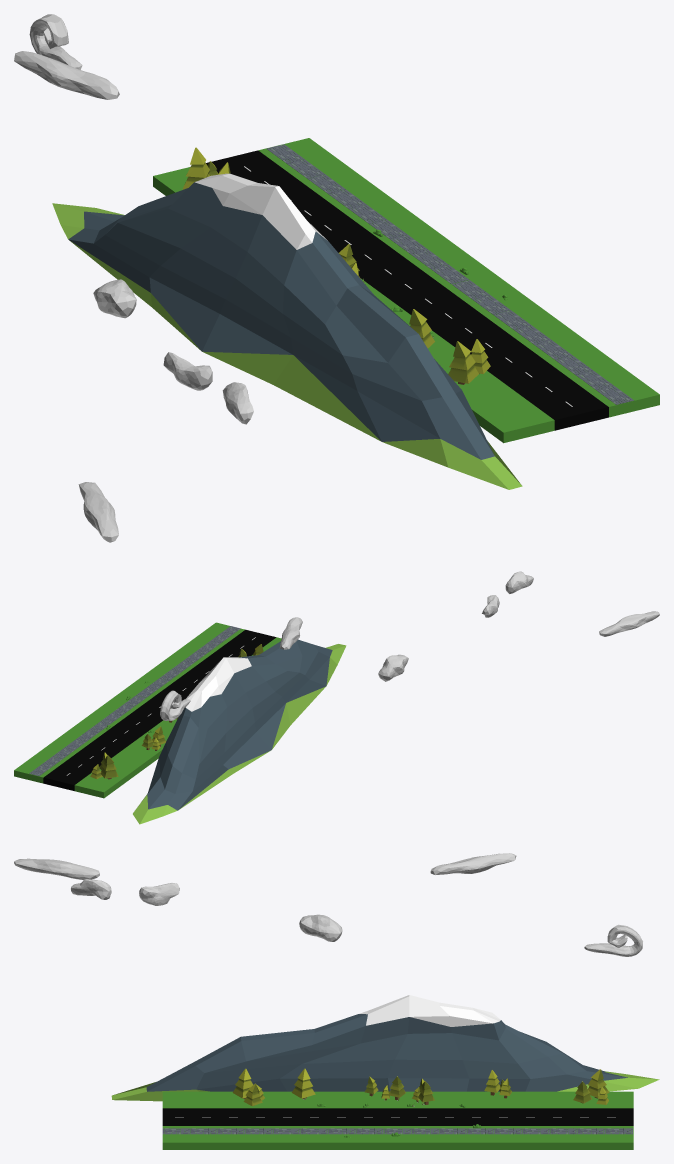
File: CountrySideRoadSeamless.glb
3 views of the same model, one above another, from view 1: azimuth 30°, elevation 25°; view 2: azimuth 150°, elevation 25°; view 3: azimuth 270°, elevation 25° (orthographic). The views are drawn at different scales.
Visible parts, largest first — view 1: Mountain_Cube, Cube, Cloud4.001, Cloud5.001, Cloud4, Cloud1, Cloud2.001, Cloud2, pine_tree.027; view 2: Mountain_Cube, Cube, Cloud4, Cloud5.001, Cloud1, Cloud4.001, Cloud2; view 3: Mountain_Cube, Cube, Cloud4, Cloud5.001, Cloud4.001, Cloud1, Cloud2.001, Cloud2.
Boxes of the visible parts, x1,y1,x2,y2 form: Mountain_Cube: (52, 173, 522, 489); Cube: (153, 138, 659, 443); Cloud4.001: (14, 51, 119, 99); Cloud5.001: (29, 14, 82, 69); Cloud4: (78, 482, 118, 542); Cloud1: (93, 279, 136, 318); Cloud2.001: (163, 352, 212, 390); Cloud2: (222, 382, 253, 424); pine_tree.027: (448, 341, 478, 384); Mountain_Cube: (133, 639, 346, 824); Cube: (14, 622, 281, 798); Cloud4: (599, 611, 659, 636); Cloud5.001: (160, 690, 190, 720); Cloud1: (378, 654, 408, 681); Cloud4.001: (279, 617, 302, 649); Cloud2: (505, 571, 533, 593); Mountain_Cube: (111, 995, 659, 1101); Cube: (162, 1091, 633, 1149); Cloud4: (14, 858, 99, 879); Cloud5.001: (584, 924, 642, 956); Cloud4.001: (430, 853, 516, 874); Cloud1: (299, 914, 342, 941); Cloud2.001: (139, 883, 179, 905); Cloud2: (71, 879, 111, 899).
Bounding box in the file's own units: 133 × 51.6 × 167.
Materials: 82 (17 with a texture image).
